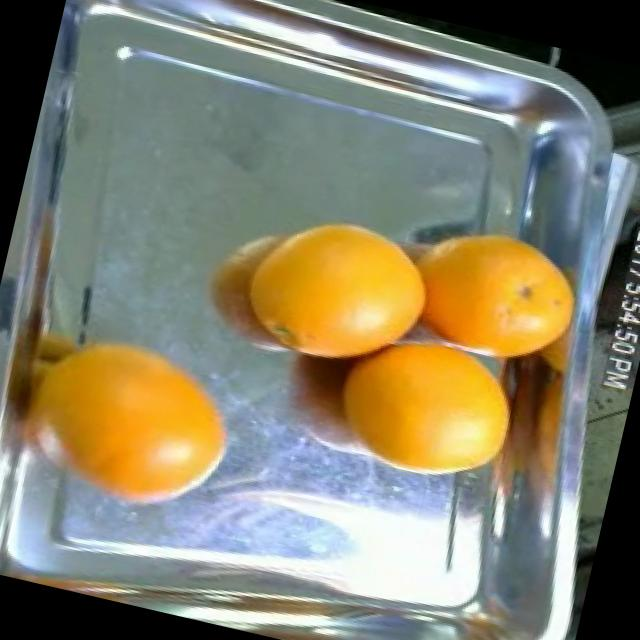Fruit: (308, 305, 546, 506), (377, 191, 597, 380)
